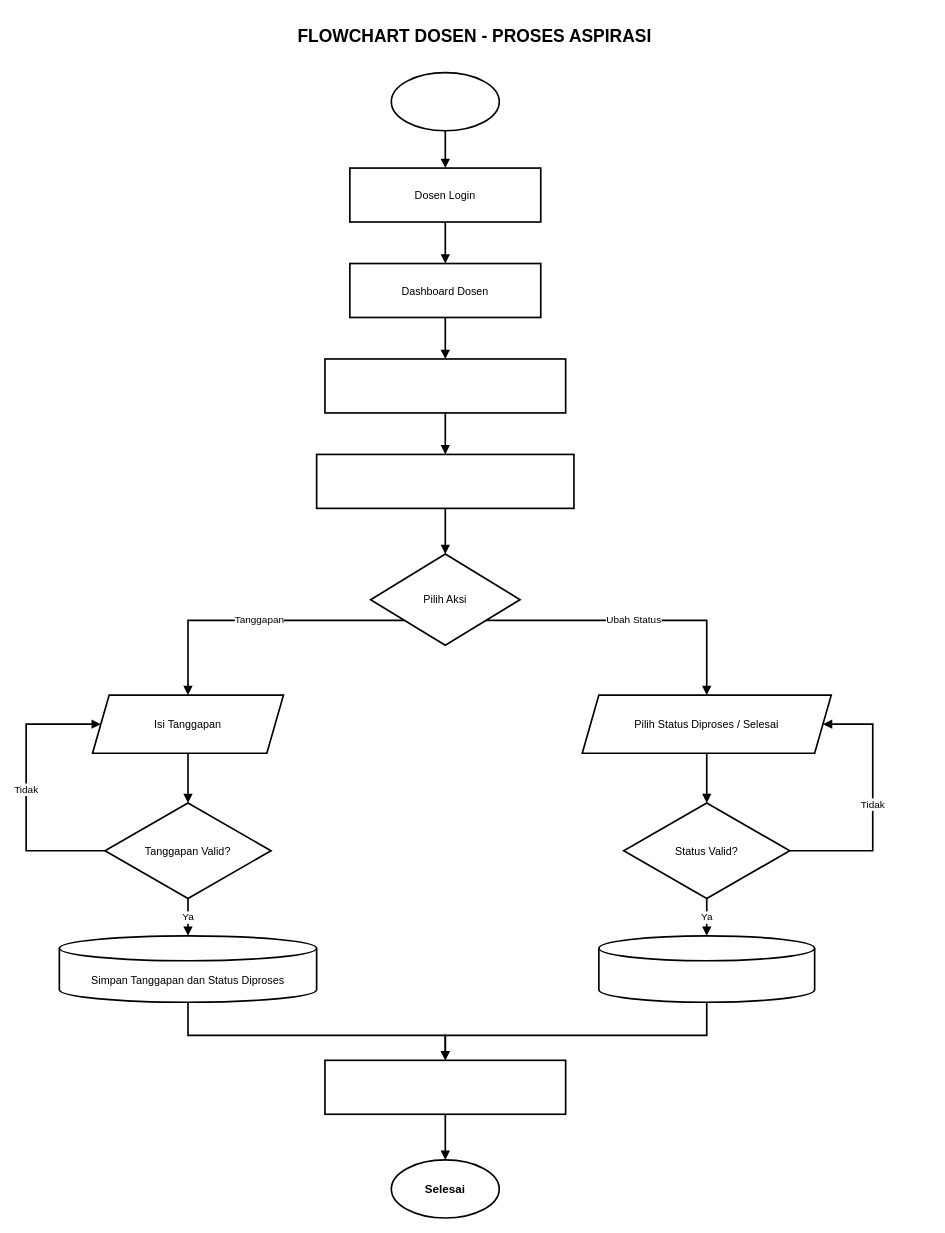
This 945x1233 diagram has some shape labels left out. Here are the shapes that lost their labels. From the top down, the centre of each, then its label:
At point (445, 101): "Mulai".
At point (445, 385): "Tampilkan Daftar Aspirasi".
At point (444, 481): "Pilih dan Buka Detail Aspirasi".
At point (706, 969): "Perbarui Status Aspirasi".
At point (445, 1087): "Tampilkan Detail Terbaru".
